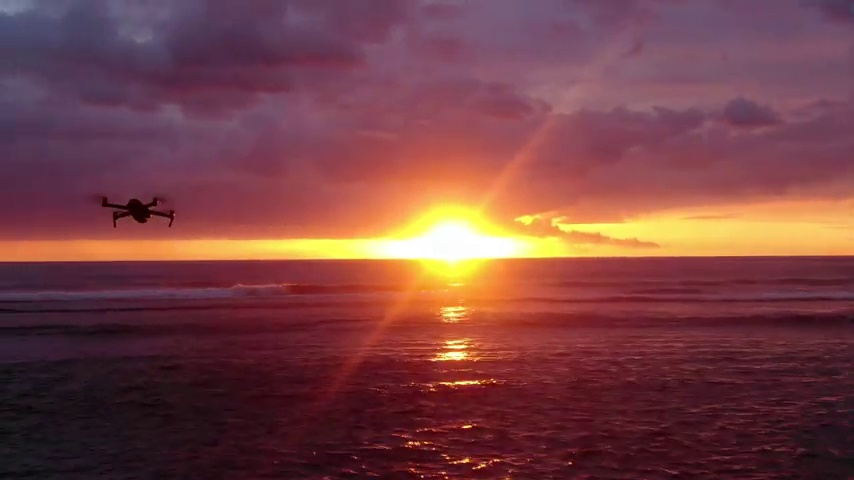drone: (101, 195, 175, 228)
